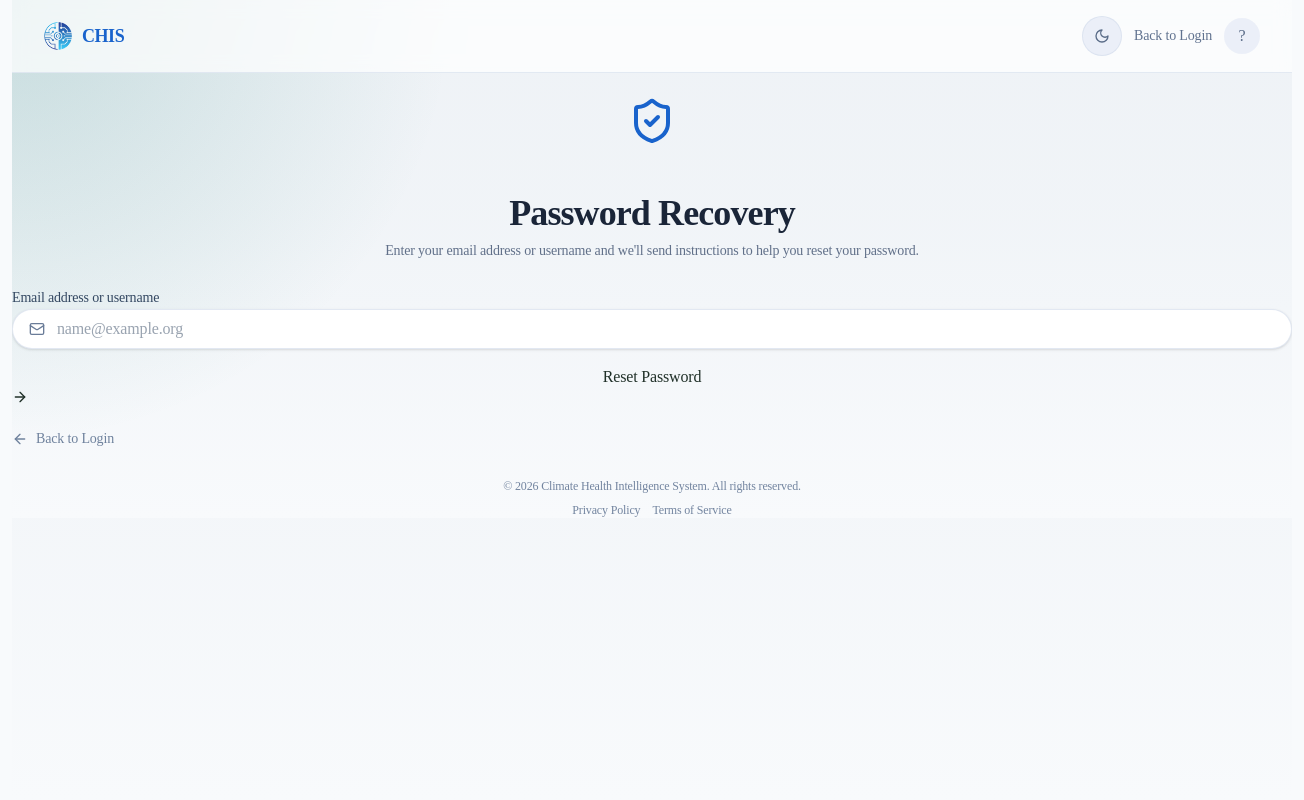
Test: ForgotPasswordPage › surfaces backend request errors to the user
Type "analyst_demo" into the field labelled "Email address or username". click: [157, 329]
box: [57, 317, 257, 341]
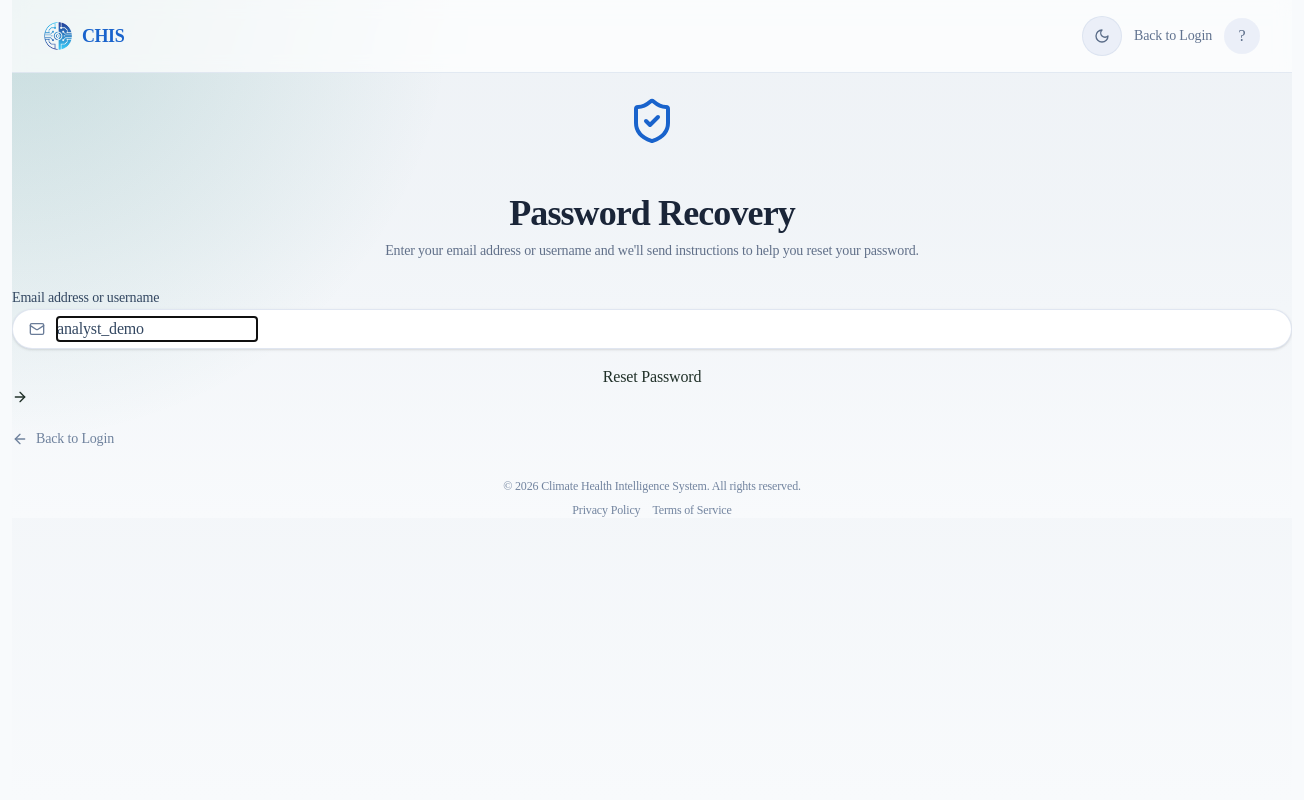
Click the button "Reset Password". click: [652, 385]
box: [12, 365, 1292, 405]
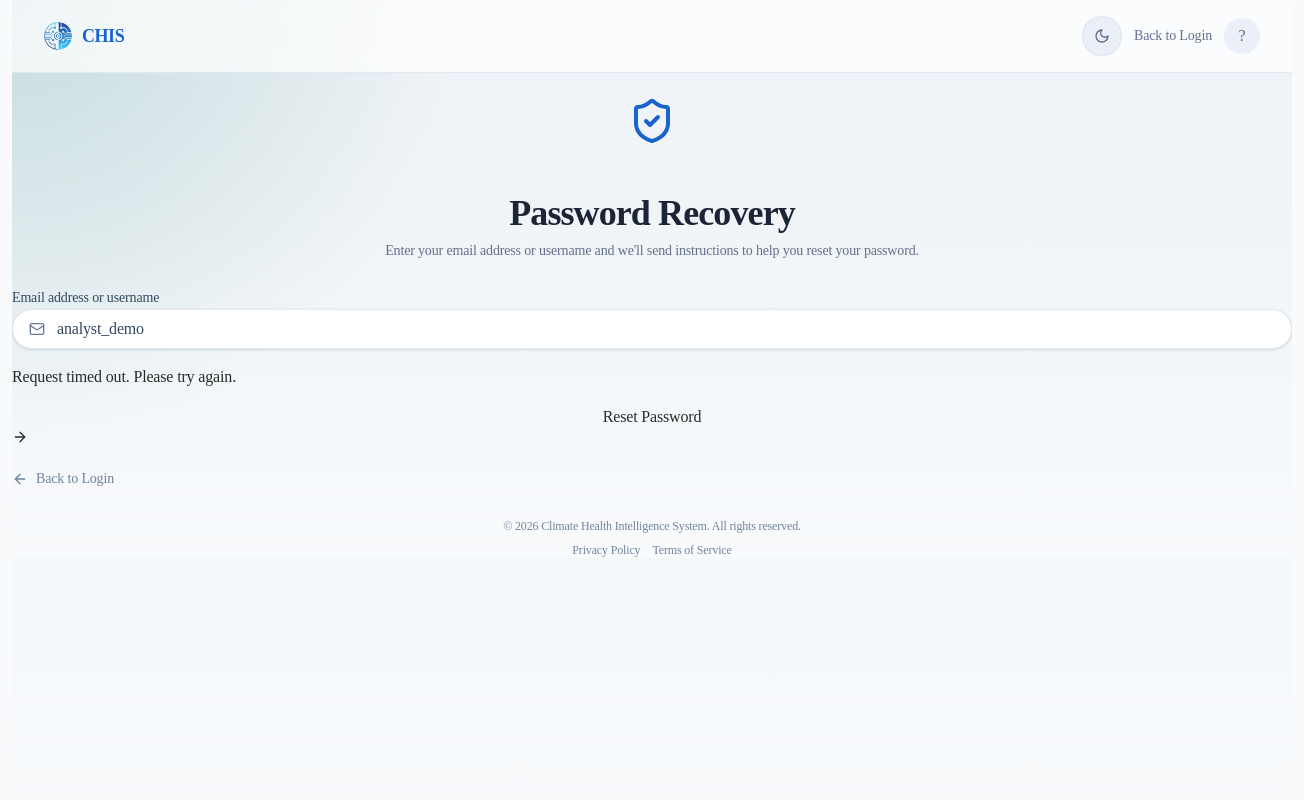
Check: the text "Request timed out. Please try again." is shown, box [12, 368, 236, 385]
